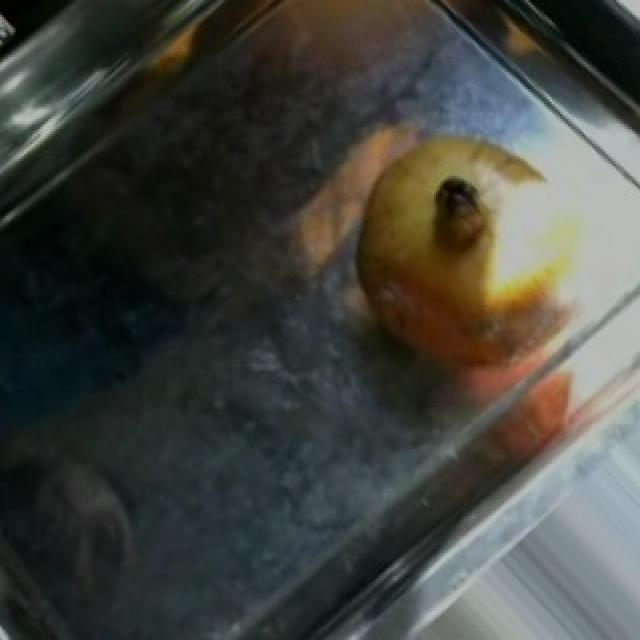fruit: (330, 102, 582, 372)
